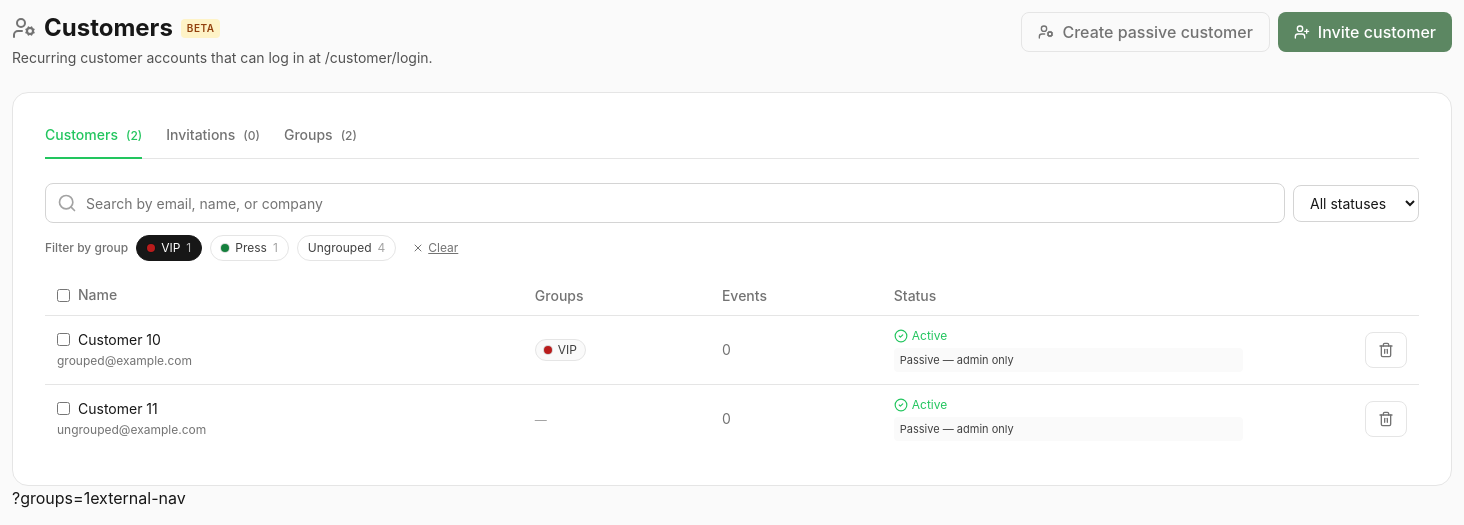
Test case: filters in the URL › filters to the ungrouped customers, with their count, instead of any group
Expected: the text "grouped@example.com" is shown, left=57, top=353, right=192, bottom=368
Click the button "Ungrouped 4" at (347, 248), box left=297, top=235, right=396, bottom=261
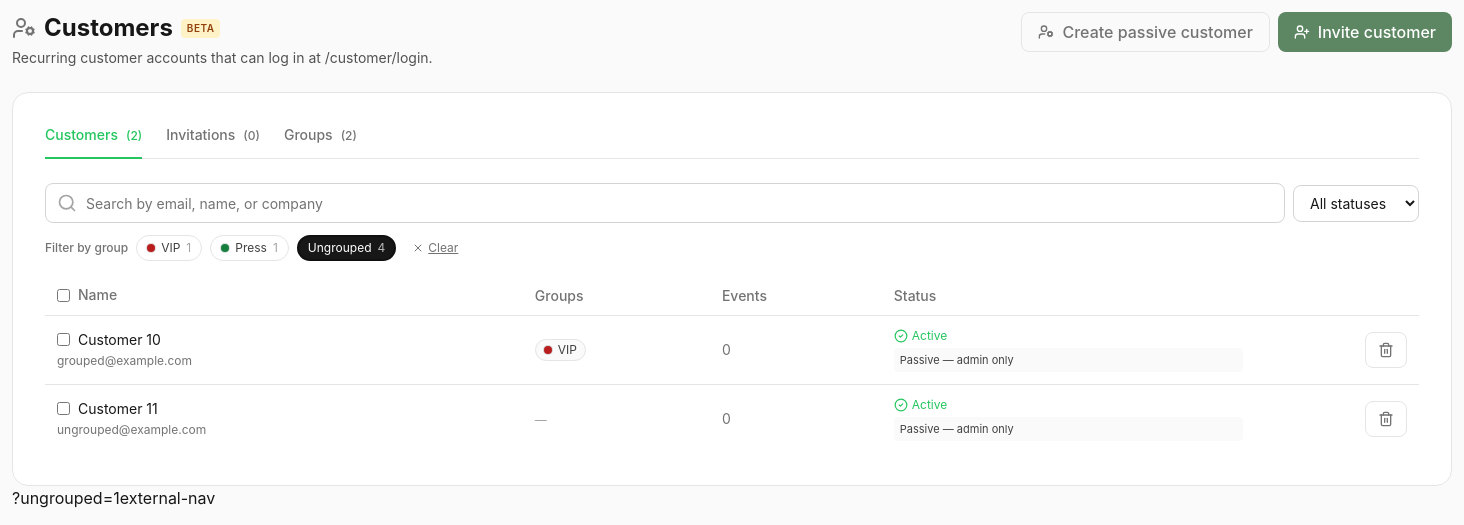
Expected: the text with test id "location" reads "?ungrouped=1", left=12, top=488, right=120, bottom=508
Note: Picking a group again leaves "Ungrouped".
Click the button "VIP 1" at (169, 248), box left=136, top=235, right=202, bottom=261
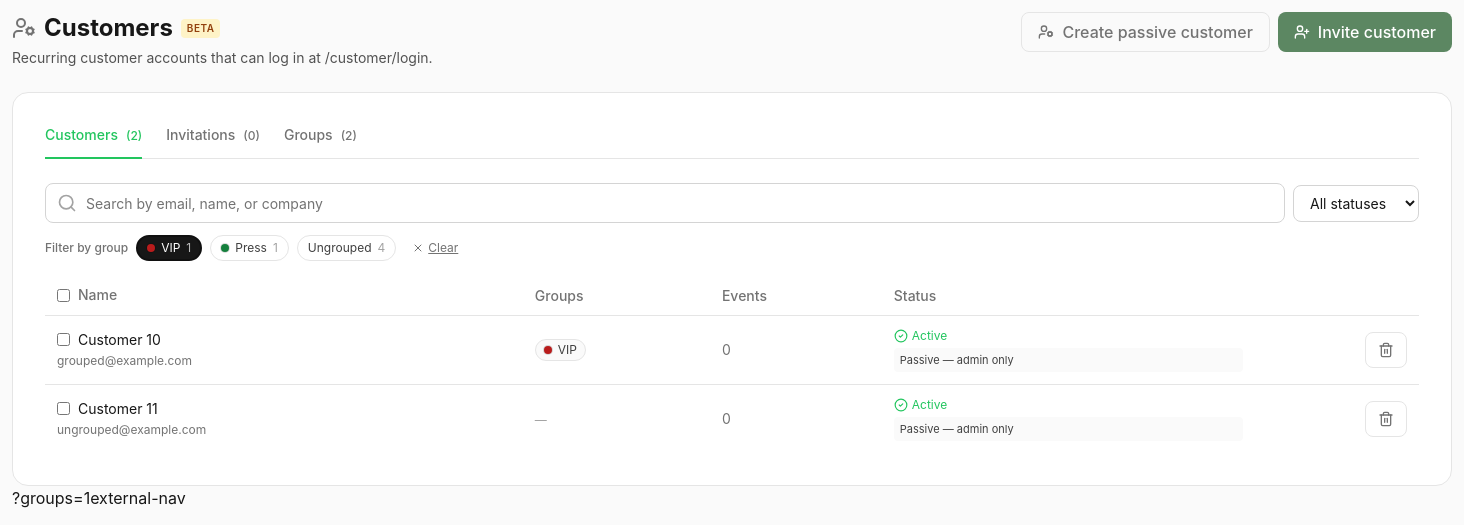
Expected: the text with test id "location" reads "?groups=1", left=12, top=488, right=90, bottom=508
